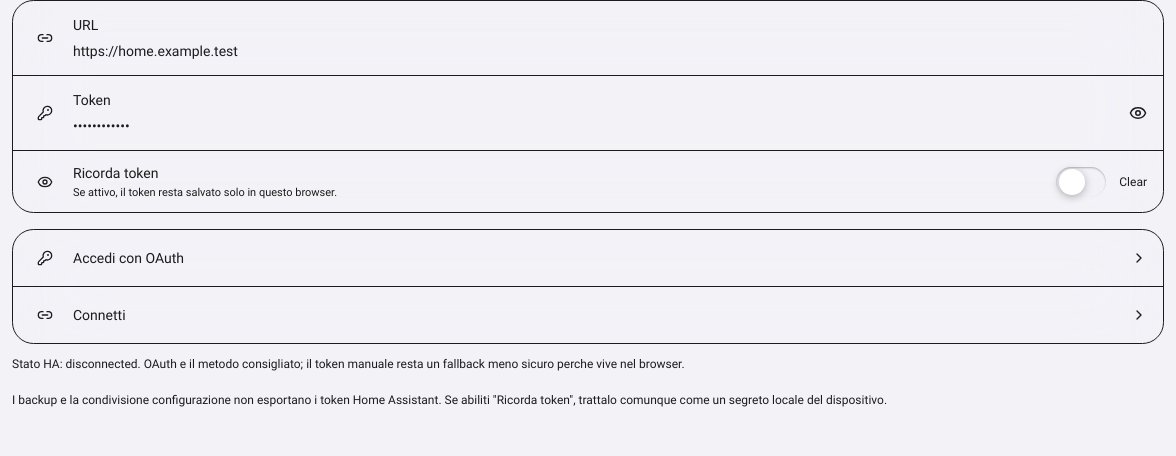
Scenario: SettingsHomeAssistantSection › reports an OAuth failure without changing the connection authority
The image size is (1176, 456).
Click the button "Accedi con OAuth" at (129, 258), box [13, 230, 1163, 286]
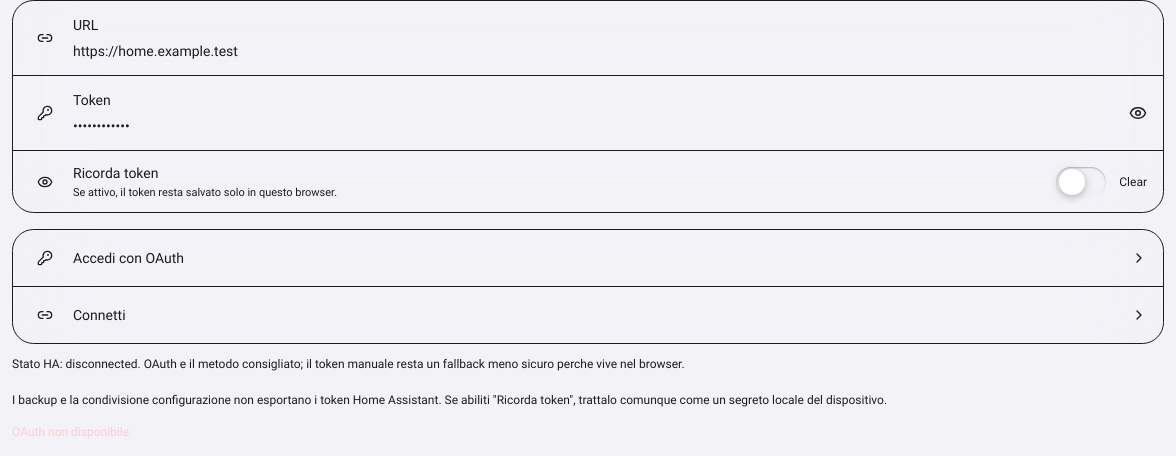
Expected: the text "OAuth non disponibile" is shown, [12, 425, 129, 439]
